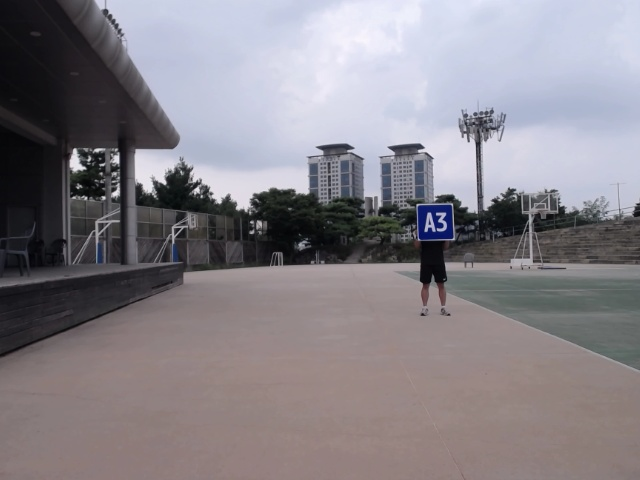delivery_a3: (416, 204, 454, 240)
